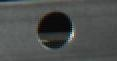holes: (36, 10, 74, 51)
